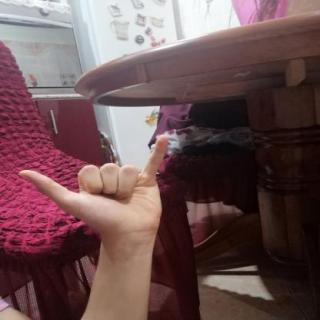YA: (6, 126, 185, 249)
